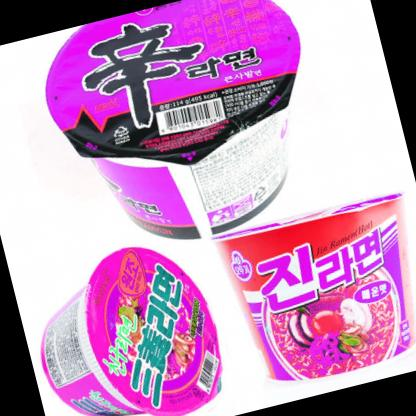Ramen: (27, 0, 342, 268), (207, 179, 416, 404), (11, 229, 244, 416)
